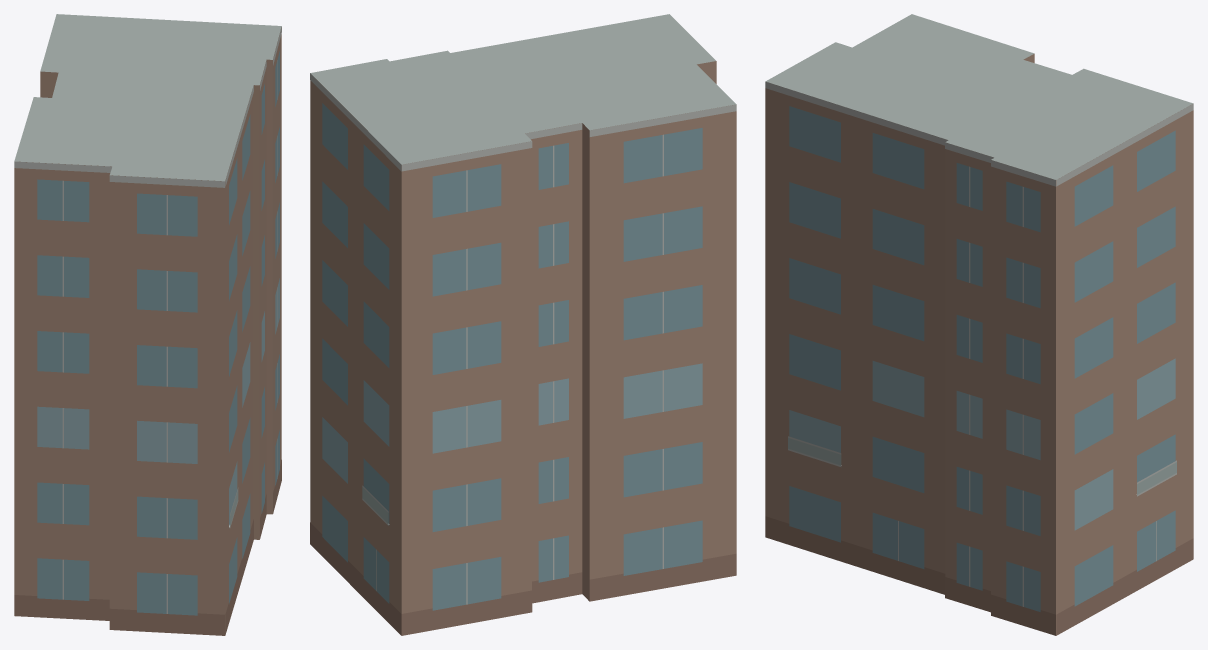
File: survey-upis-32658343.glb
The picture shows the model from 3 angles, left to right: view 1: azimuth 30°, elevation 25°; view 2: azimuth 150°, elevation 25°; view 3: azimuth 270°, elevation 25°; orthographic projection. The views are drawn at different scales.
Visible parts, largest first — view 1: survey-upis-32658343.tmp; view 2: survey-upis-32658343.tmp; view 3: survey-upis-32658343.tmp.
Part boxes in pixels (box(x1,y1,x2,y2)): survey-upis-32658343.tmp: box(14, 14, 281, 635); survey-upis-32658343.tmp: box(310, 14, 736, 635); survey-upis-32658343.tmp: box(765, 14, 1193, 635).
Bounding box in the file's own units: 13.14 × 16.8 × 14.31.
